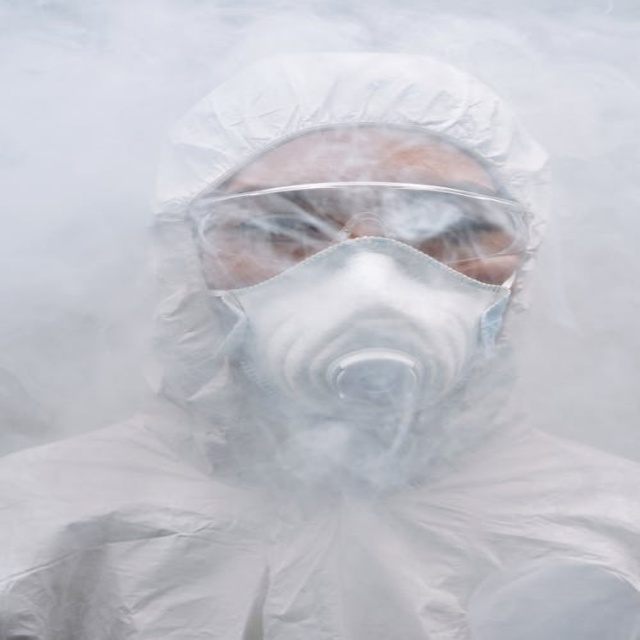Gafas: (184, 181, 536, 291)
Mascara: (218, 230, 529, 422)
